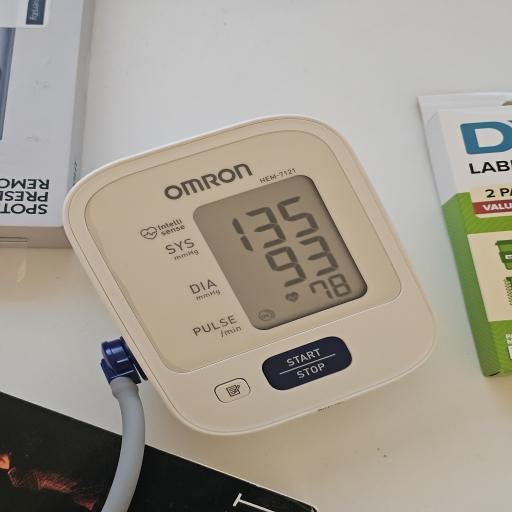blood pressure monitor: (62, 112, 440, 439)
